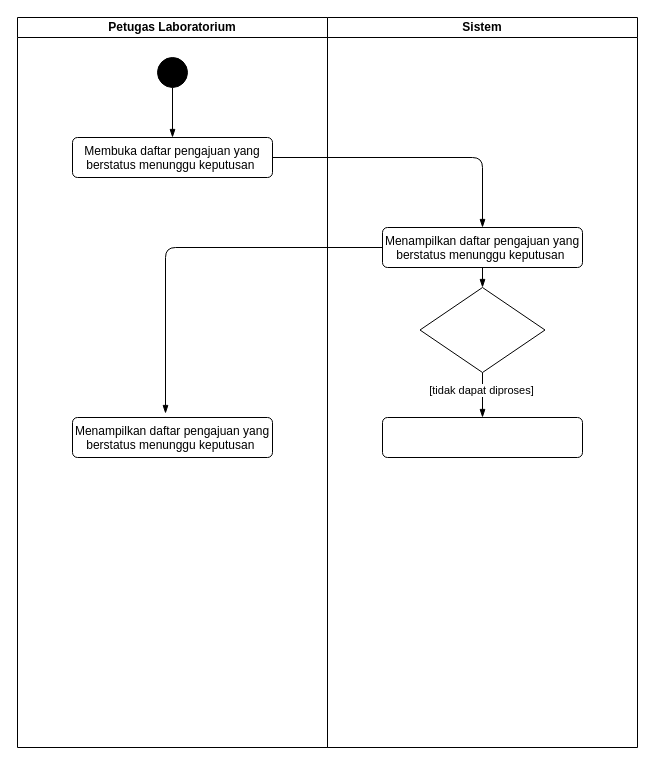
The diagram is 655 pixels wide and 765 high, and some of its shapes have lost their labels. Each missing label, with the centre of its shape:
"Menampilkan pesan pengajuan tidak dapat diproses" goes at point (482, 437).
"Pengajuan dapat diproses?" goes at point (482, 329).
